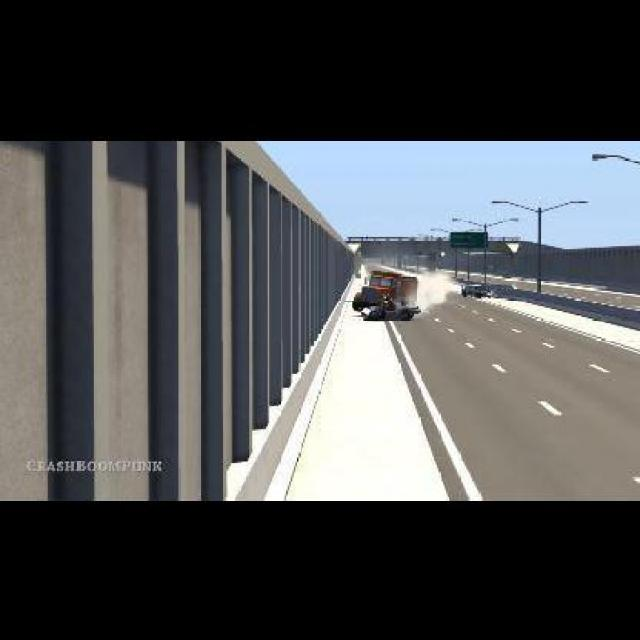accident: (351, 268, 418, 317)
